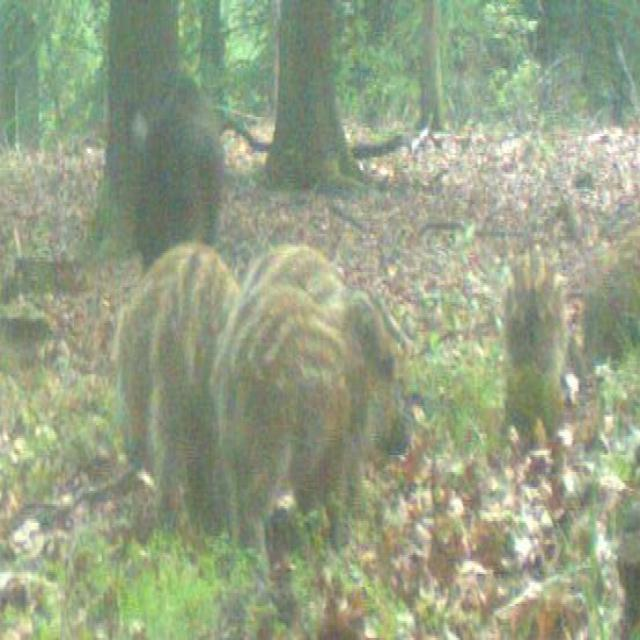pig: (220, 296, 420, 544)
